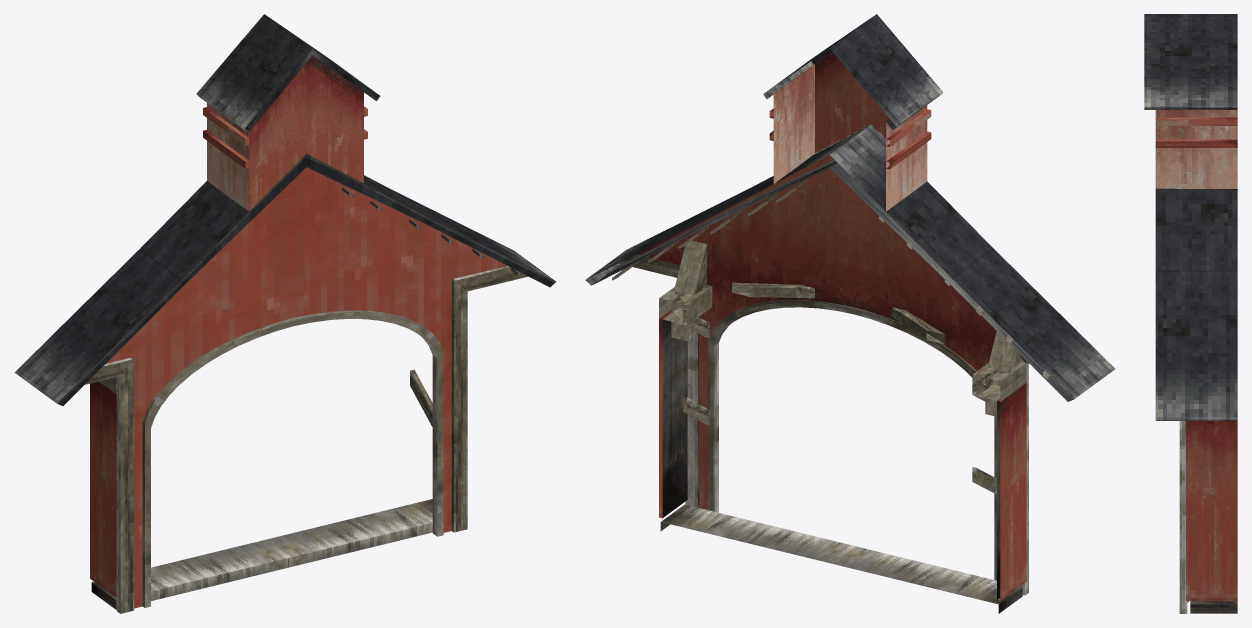
File: 5_b3_end_right_02.glb
3 renders of one model, left to right at view 1: azimuth 30°, elevation 25°; view 2: azimuth 150°, elevation 25°; view 3: azimuth 270°, elevation 25°, orthographic. The views are drawn at different scales.
Parts seen in each view (by area): view 1: 5_b3_end_right_02; view 2: 5_b3_end_right_02; view 3: 5_b3_end_right_02.
Part boxes in pixels (x1,y1,x2,y2): 5_b3_end_right_02: (14, 14, 556, 613); 5_b3_end_right_02: (585, 14, 1115, 613); 5_b3_end_right_02: (1144, 14, 1237, 613).
Size of the model in its own units: 8.69 by 8.91 by 1.45.
Materials: 1 (1 with a texture image).
